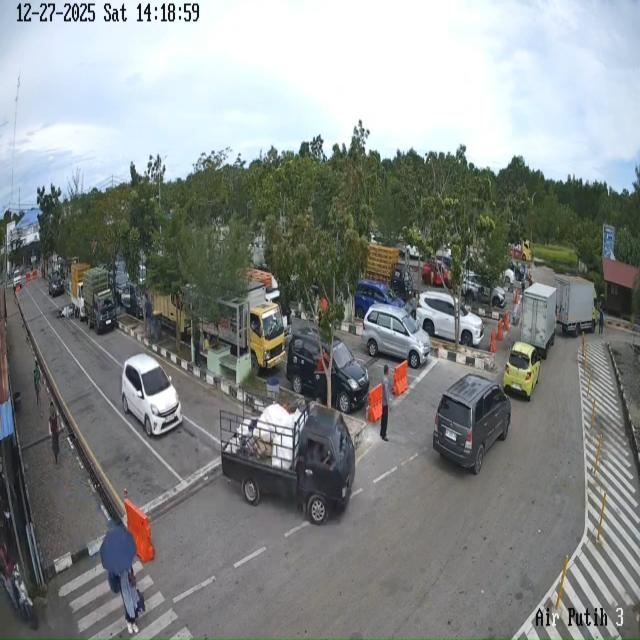Golongan IVA: (433, 373, 511, 475), (286, 326, 370, 414), (121, 354, 182, 437), (362, 304, 430, 369), (416, 290, 484, 348), (503, 342, 541, 402), (354, 279, 406, 320), (462, 271, 506, 308), (422, 260, 450, 288), (48, 272, 64, 298)
Golongan IVB: (220, 404, 355, 524)
Golongan VB: (202, 281, 286, 373), (521, 283, 557, 359), (555, 275, 598, 337), (82, 267, 117, 334), (70, 263, 90, 321)
